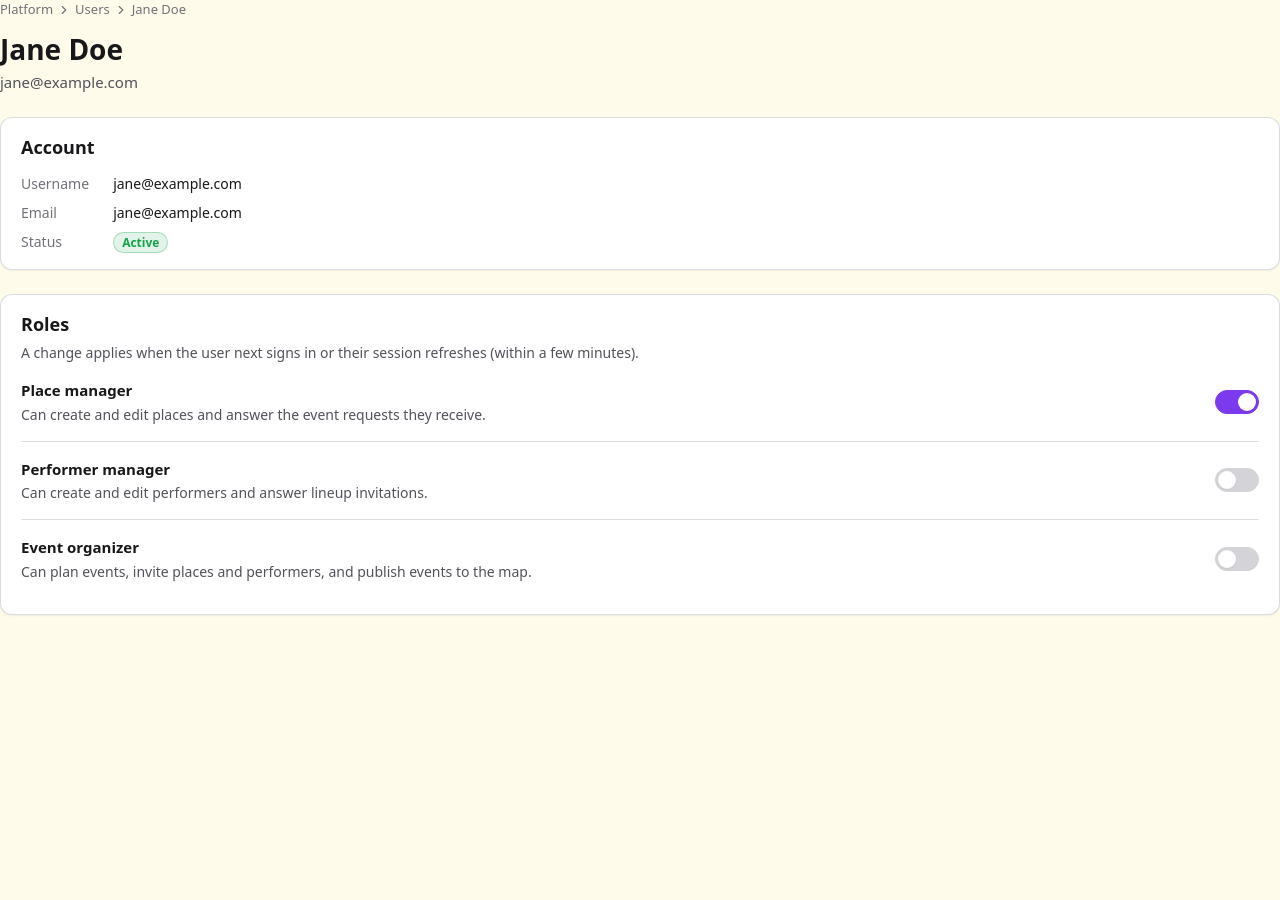
Test: UserDetailPage › grants a role after confirming and refreshes the user
The width and height of the screenshot is (1280, 900).
Click the switch named "Event organizer" in the row of "Event organizer" at (1237, 559), box [1215, 547, 1259, 571]
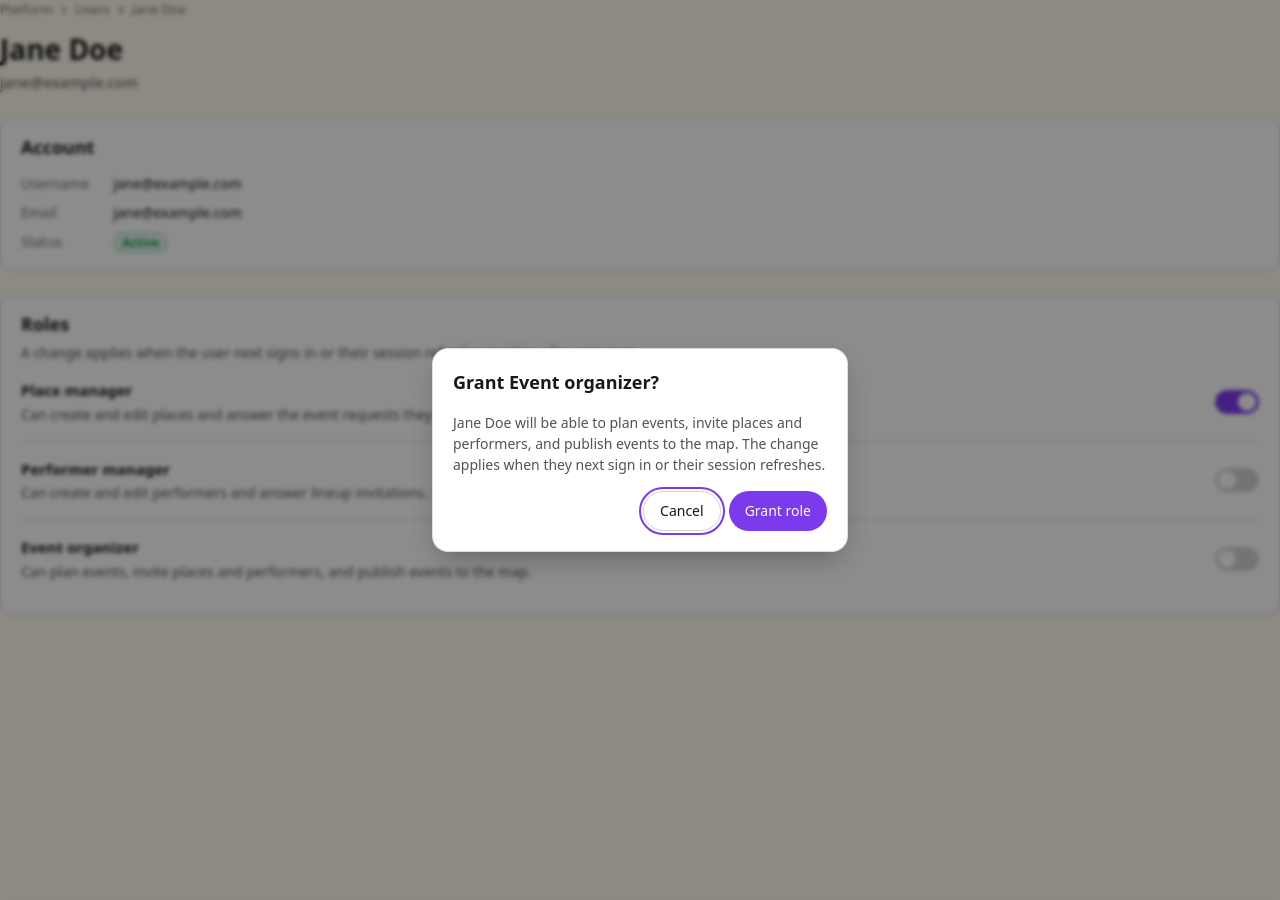
Result: the dialog "Grant Event organizer?" shows "Jane Doe will be able to plan events, invite places and performers, and publish events to the map." at [453, 413, 825, 474]
Click the button "Grant role" at (778, 511), box [729, 491, 827, 531]
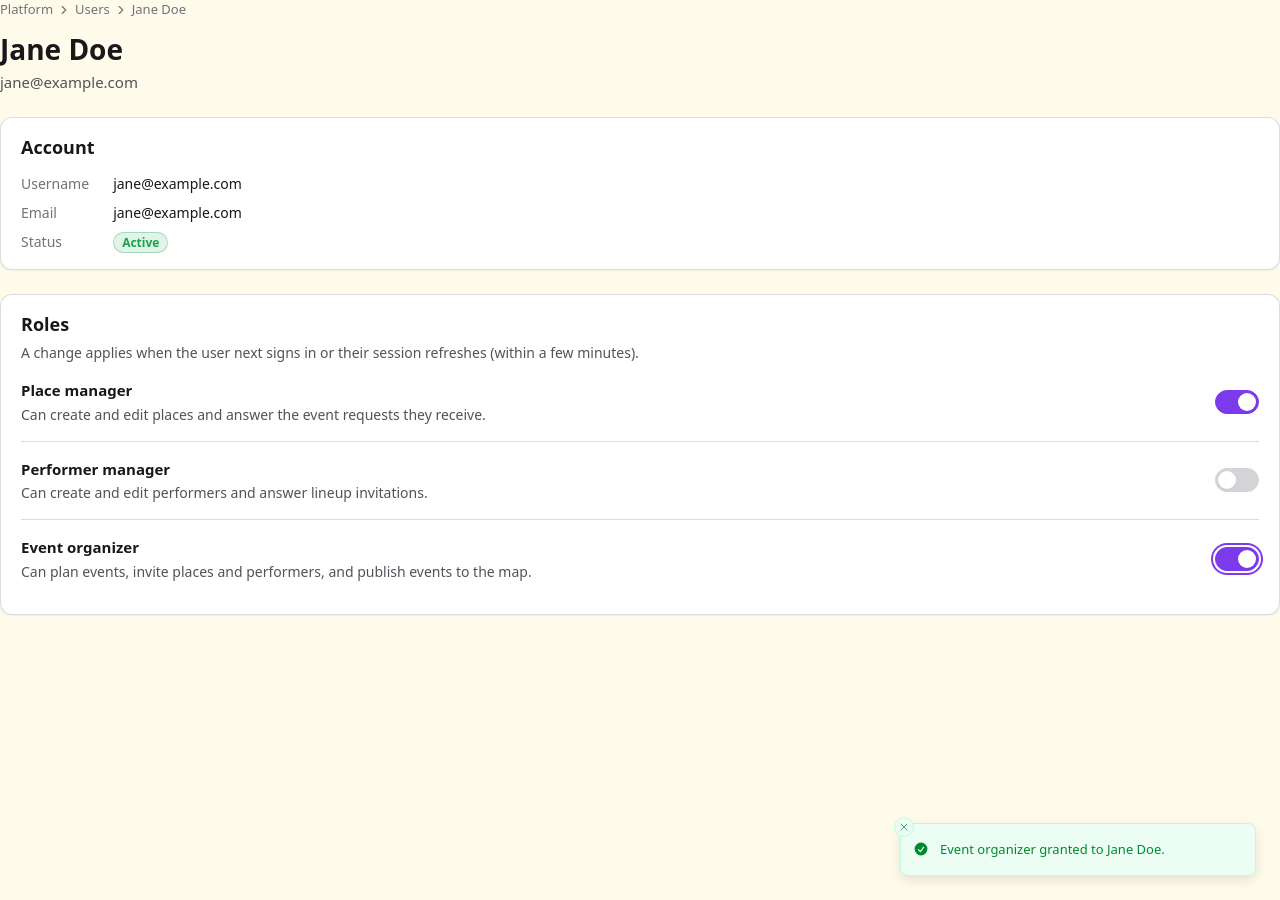
Result: the 3rd switch named "Event organizer" is checked at [1215, 547, 1259, 571]
Result: the text "Event organizer granted to Jane Doe." is shown at [940, 840, 1165, 859]
